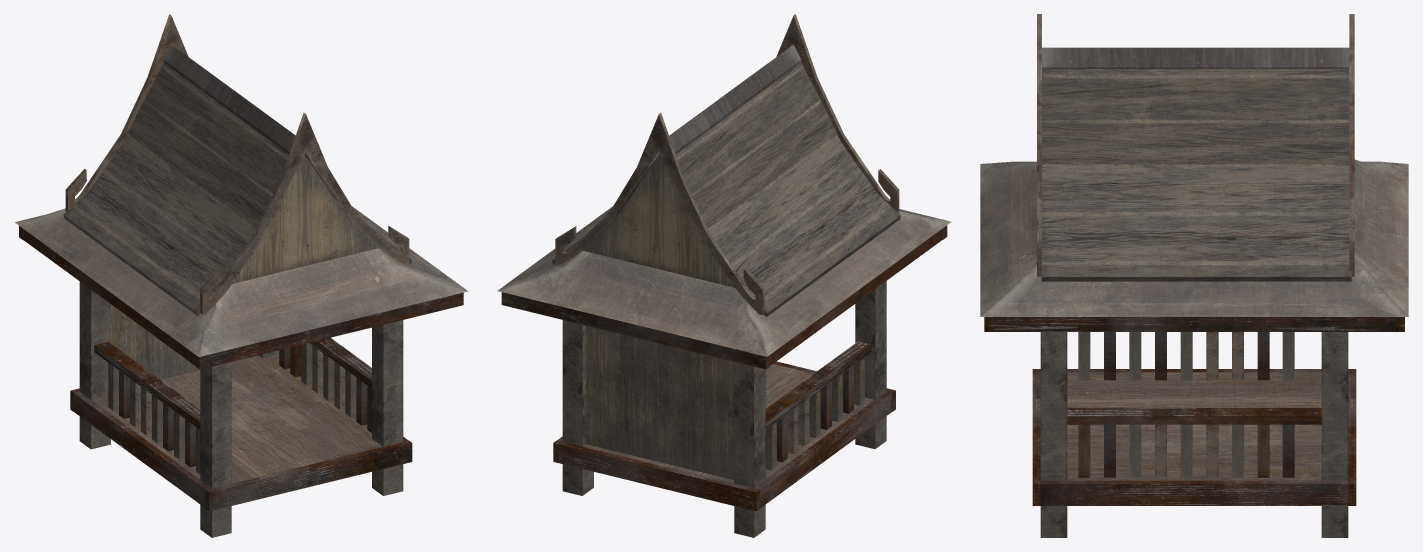
Rendered from shrine ceremony.fbx.
The picture shows the model from 3 angles, left to right: view 1: azimuth 30°, elevation 25°; view 2: azimuth 150°, elevation 25°; view 3: azimuth 270°, elevation 25°; orthographic projection. The views are drawn at different scales.
Visible parts, largest first — view 1: Cube.013; view 2: Cube.013; view 3: Cube.013.
Part boxes in pixels (x1,y1,x2,y2): Cube.013: (15, 14, 467, 537); Cube.013: (497, 14, 951, 537); Cube.013: (980, 14, 1408, 537).
Bounding box in the file's own units: 142 × 202 × 168.
1 material, 1 textured.
